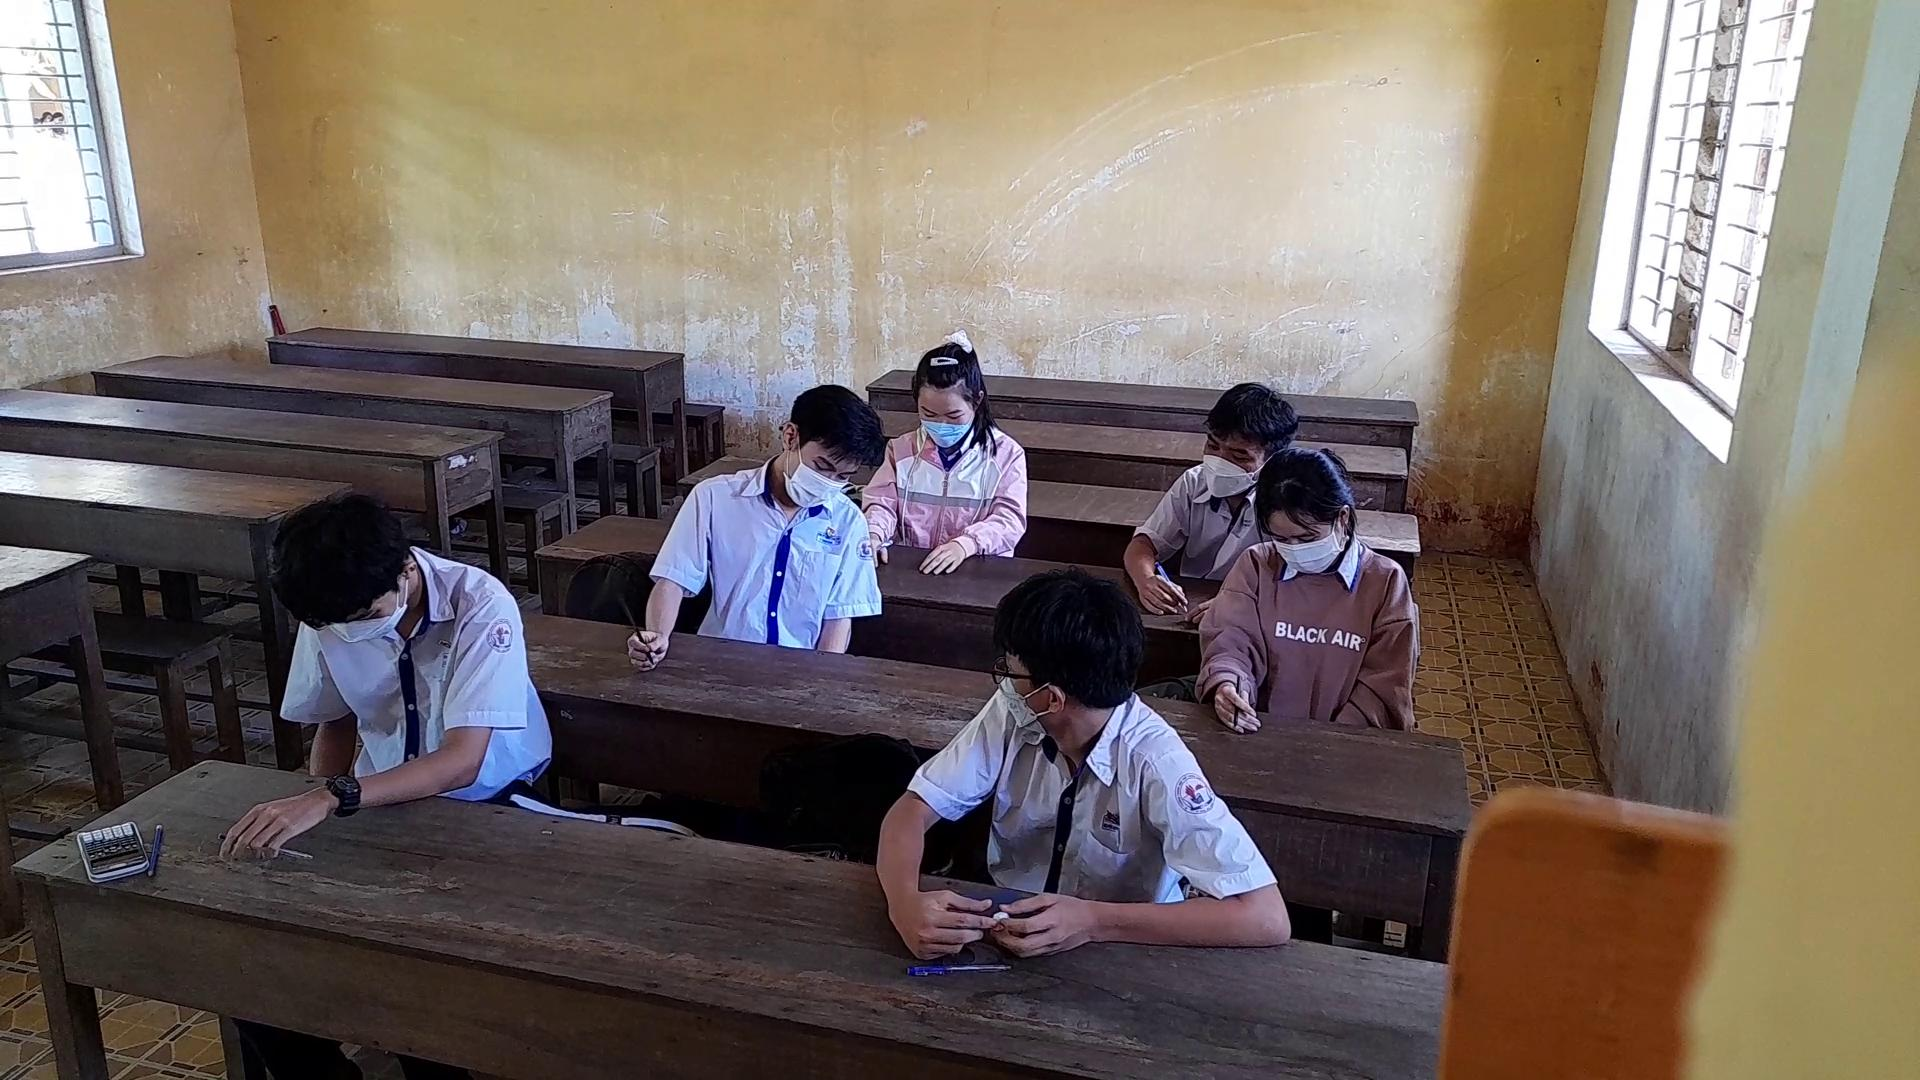Bend Over The Desk: (255, 485, 446, 645), (873, 320, 1001, 471), (756, 363, 882, 514), (1241, 434, 1367, 585)
Hand Under Table: (1329, 556, 1422, 738), (276, 618, 360, 770), (803, 509, 887, 661)
Look Around: (986, 560, 1149, 752)
